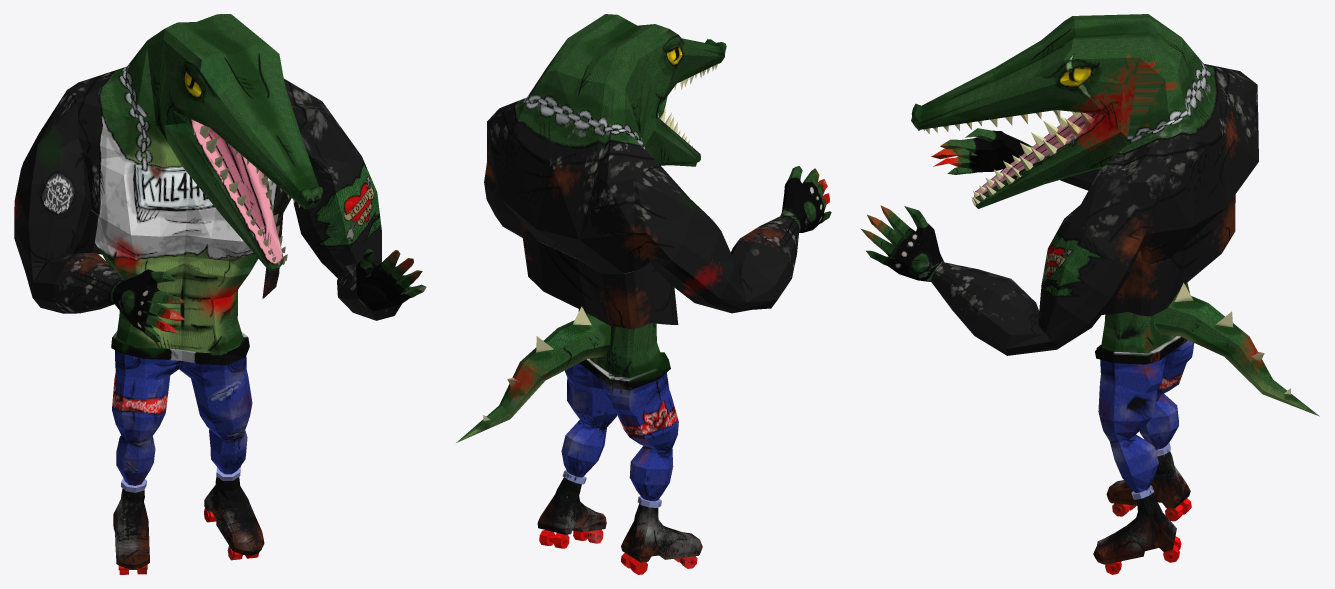
Rendered from cocodrilaBonesSelect_000017.obj.
3 renders of one model, left to right at view 1: azimuth 30°, elevation 25°; view 2: azimuth 150°, elevation 25°; view 3: azimuth 270°, elevation 25°, orthographic. The views are drawn at different scales.
Parts seen in each view (by area): view 1: Crocodile.002_Cylinder.002; view 2: Crocodile.002_Cylinder.002; view 3: Crocodile.002_Cylinder.002.
Part boxes in pixels (left/top/right/bottom): Crocodile.002_Cylinder.002: left=14, top=14, right=426, bottom=574; Crocodile.002_Cylinder.002: left=456, top=14, right=831, bottom=574; Crocodile.002_Cylinder.002: left=860, top=14, right=1319, bottom=574.
Bounding box in the file's own units: 4.16 × 6.73 × 5.31.
